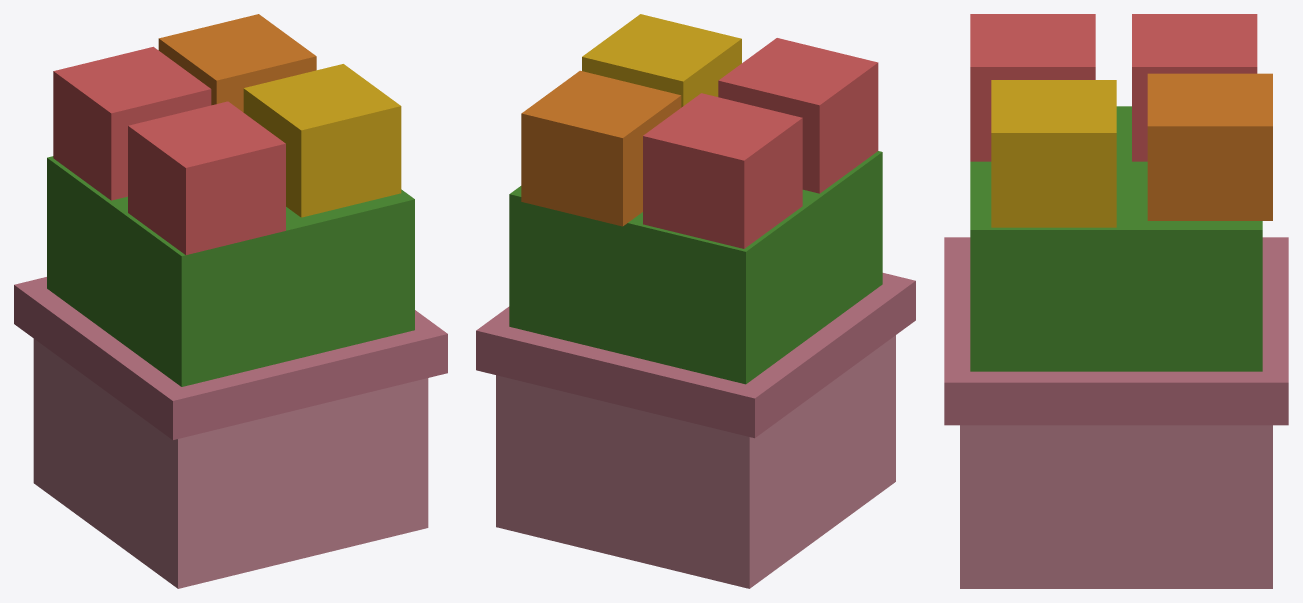
File: nt-flower-pot.glb
3 views of the same model, side by side, from view 1: azimuth 30°, elevation 25°; view 2: azimuth 150°, elevation 25°; view 3: azimuth 270°, elevation 25° (orthographic). The views are drawn at different scales.
Parts seen in each view (by area): view 1: box-prop; view 2: box-prop; view 3: box-prop.
Part boxes in pixels (x1=…): box-prop: x1=14, y1=14, x2=447, y2=588; box-prop: x1=476, y1=14, x2=915, y2=588; box-prop: x1=944, y1=14, x2=1288, y2=588.
Bounding box in the file's own units: 0.66 × 0.95 × 0.66.
